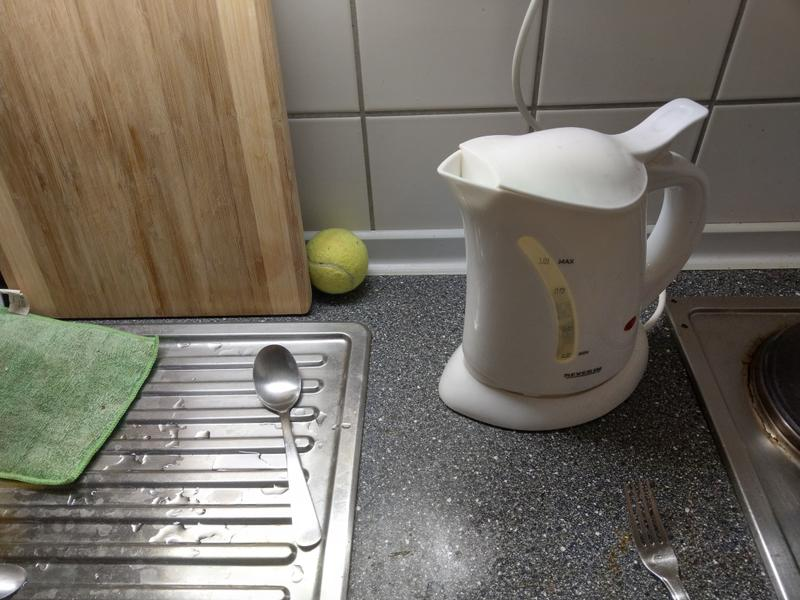Tennisball: (301, 226, 372, 298)
